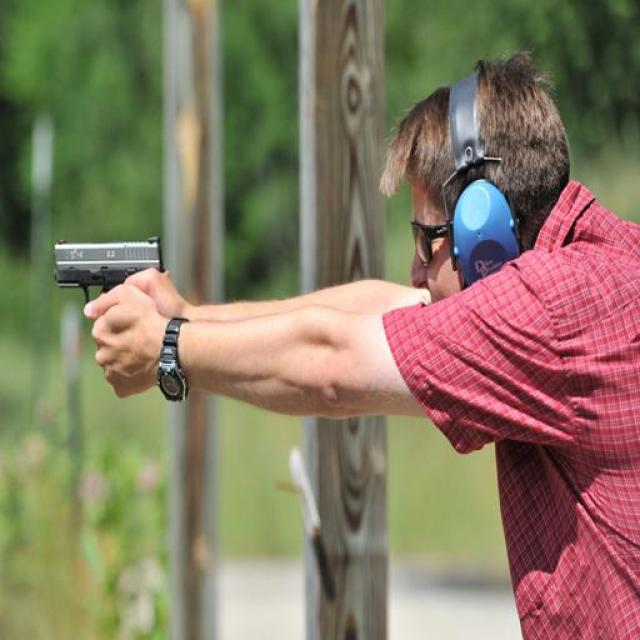pistol: (50, 227, 167, 360)
